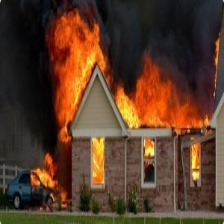fire: (116, 57, 214, 133), (47, 19, 104, 138), (28, 150, 67, 206), (92, 135, 108, 190), (188, 138, 204, 189), (143, 139, 160, 159)
